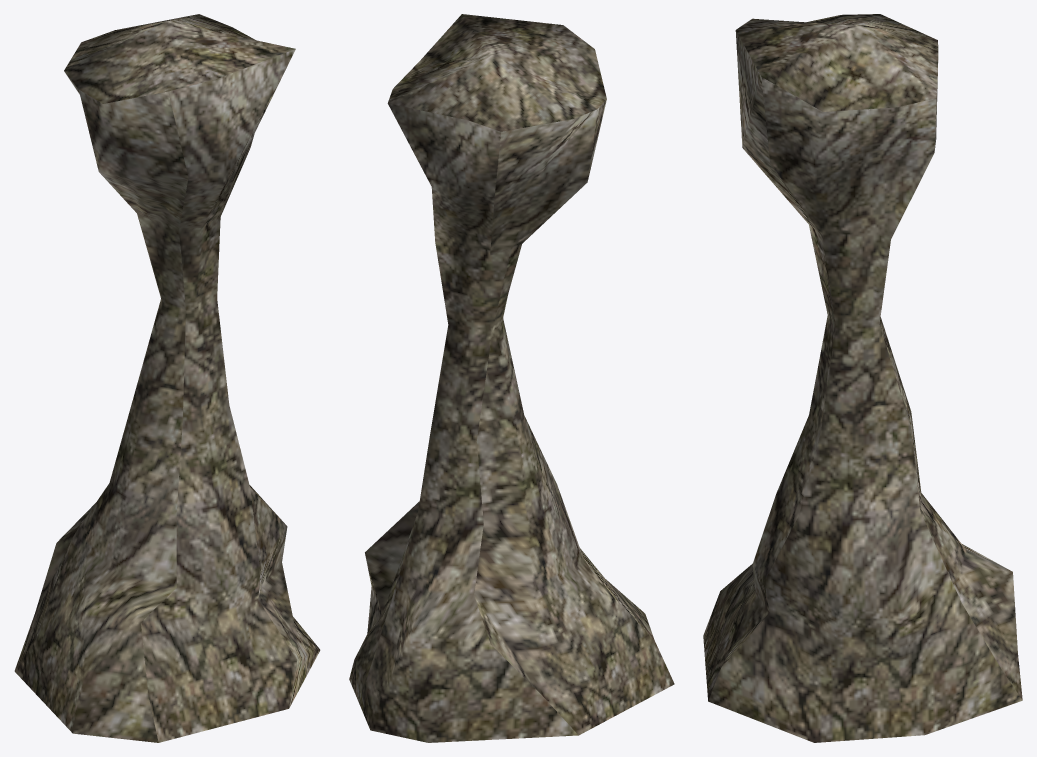
Rendered from general_obj_bigstone04.glb.
3 renders of one model, left to right at view 1: azimuth 30°, elevation 25°; view 2: azimuth 150°, elevation 25°; view 3: azimuth 270°, elevation 25°, orthographic. The views are drawn at different scales.
Parts seen in each view (by area): view 1: Sphere01; view 2: Sphere01; view 3: Sphere01.
Part boxes in pixels (x1=…): Sphere01: x1=14, y1=14, x2=320, y2=742; Sphere01: x1=349, y1=14, x2=674, y2=742; Sphere01: x1=703, y1=14, x2=1022, y2=742.
Size of the model in its own units: 16.67 by 37.77 by 16.76.
1 material, 1 textured.
